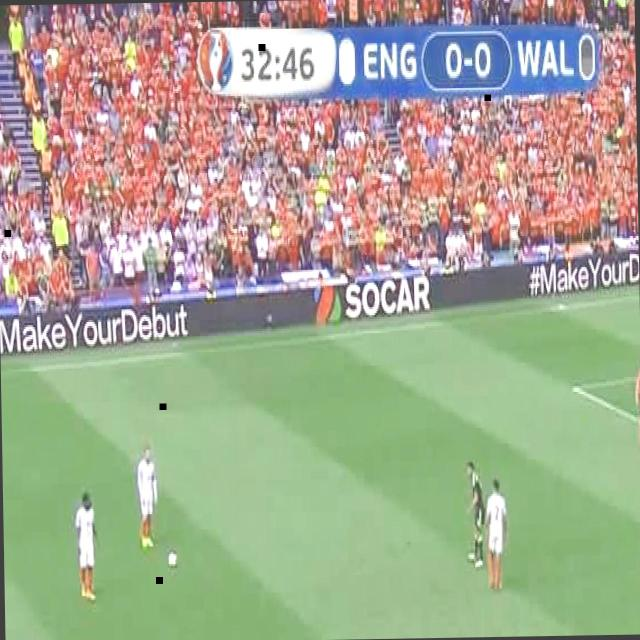ball: (167, 550, 177, 568)
player-white: (484, 479, 510, 591), (75, 492, 99, 602), (136, 444, 158, 550), (465, 459, 486, 568), (633, 356, 640, 449)
